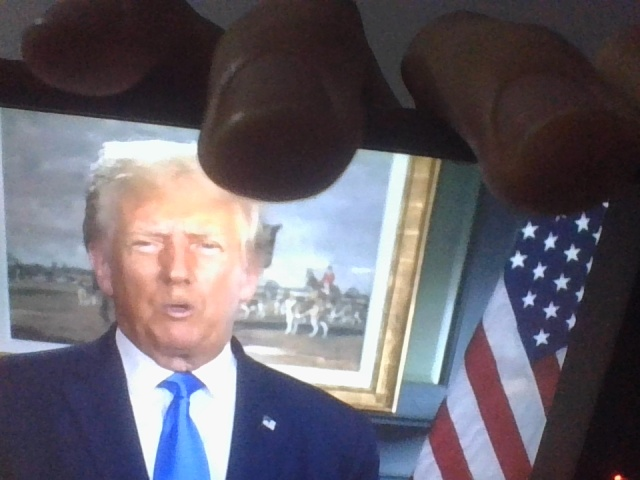fake: (109, 148, 251, 350)
